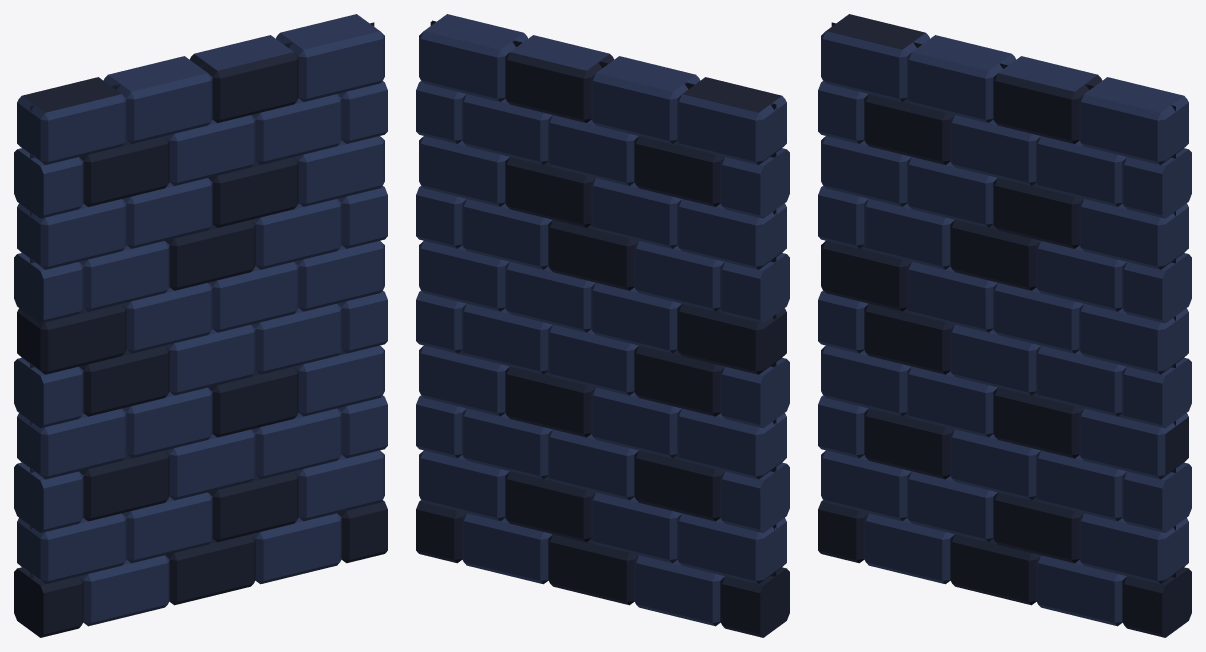
File: brickwall.obj
3 renders of one model, left to right at view 1: azimuth 30°, elevation 25°; view 2: azimuth 150°, elevation 25°; view 3: azimuth 330°, elevation 25°, orthographic.
Visible parts, largest first — view 1: brick_wall; view 2: brick_wall; view 3: brick_wall.
Part boxes in pixels (x1,y1,x2,y2): brick_wall: (14, 14, 387, 637); brick_wall: (416, 14, 789, 637); brick_wall: (818, 14, 1191, 637).
Bounding box in the file's own units: 2.11 × 3.06 × 0.3126.
